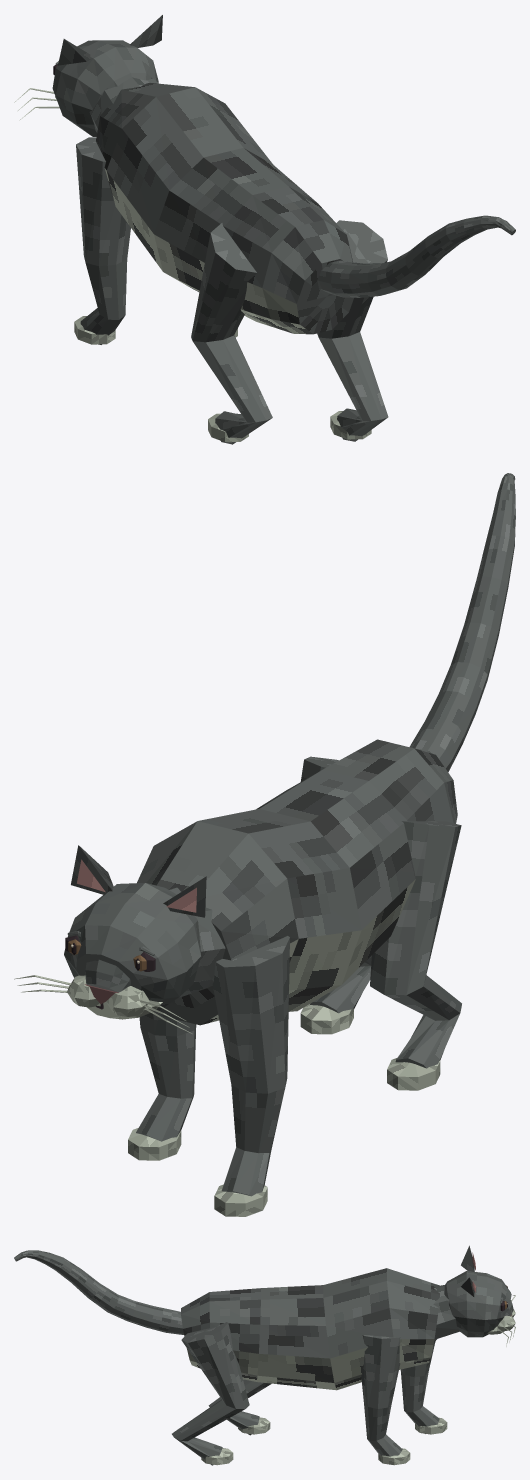
File: mon_cat.glb
3 renders of one model, top to bottom at view 1: azimuth 30°, elevation 25°; view 2: azimuth 150°, elevation 25°; view 3: azimuth 270°, elevation 25°, orthographic. The views are drawn at different scales.
Parts seen in each view (by area): view 1: closed_body; view 2: closed_body; view 3: closed_body.
Part boxes in pixels (left/top/right/bottom): closed_body: left=14, top=15, right=515, bottom=444; closed_body: left=14, top=473, right=515, bottom=1216; closed_body: left=14, top=1245, right=515, bottom=1465.
Size of the model in its own units: 0.1762 by 0.3912 by 0.8255.
1 material, 1 textured.
